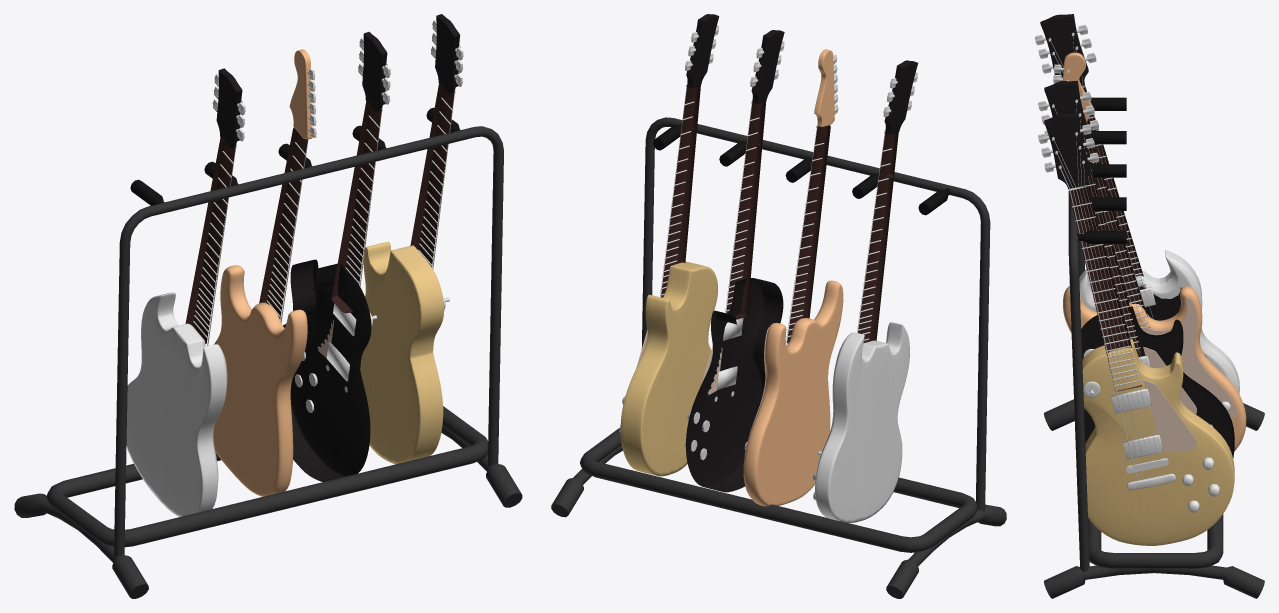
Rendered from group_guitar_1.glb.
3 views of the same model, side by side, from view 1: azimuth 30°, elevation 25°; view 2: azimuth 150°, elevation 25°; view 3: azimuth 270°, elevation 25° (orthographic). The views are drawn at different scales.
Parts seen in each view (by area): view 1: Vert.013, Vert.003, Vert.017, Vert.029, Vert.020, Plane.056, Plane.041, Stand.001, Plane.079, Plane.049, Plane.035, Plane.036 (+6 smaller); view 2: Vert.013, Vert.017, Vert.003, Vert.029, Plane.056, Vert.020, Plane.079, Plane.041, Plane.049, Plane.035, Stand.001, Plane.043 (+4 smaller); view 3: Vert.003, Vert.020, Stand.001, Vert.029, Plane.035, Plane.056, Vert.013, Vert.017, Plane.036, Vert.005, Vert.018, Vert.004 (+21 smaller).
Boxes of the visible parts, x1,y1,x2,y2 form: Vert.013: (126,292,227,516); Vert.003: (360,241,444,464); Vert.017: (213,265,307,496); Vert.029: (283,259,371,481); Vert.020: (114,126,503,557); Plane.056: (46,406,488,547); Plane.041: (185,137,235,343); Stand.001: (14,426,522,598); Plane.079: (331,102,381,313); Plane.049: (259,127,307,319); Plane.035: (410,84,454,266); Plane.036: (435,14,460,94); Vert.013: (815,322,909,523); Vert.017: (743,280,843,506); Vert.003: (620,262,717,476); Vert.029: (686,278,783,492); Plane.056: (580,428,978,552); Vert.020: (641,117,990,511); Plane.079: (726,101,766,319); Plane.041: (858,132,898,342); Plane.049: (787,125,830,343); Plane.035: (661,85,700,297); Stand.001: (551,445,1006,598); Plane.043: (884,60,918,134); Vert.003: (1082,339,1234,545); Vert.020: (1068,193,1089,571); Stand.001: (1044,399,1264,598); Vert.029: (1081,306,1234,458); Plane.035: (1068,185,1141,391); Plane.056: (1085,409,1223,568); Vert.013: (1079,250,1239,394); Vert.017: (1063,285,1246,451); Plane.036: (1044,113,1091,188); Vert.005: (1054,136,1163,481); Vert.018: (1140,297,1237,417); Vert.004: (1143,379,1196,452).
Bounding box in the file's own units: 2.24 × 2.72 × 1.23.
